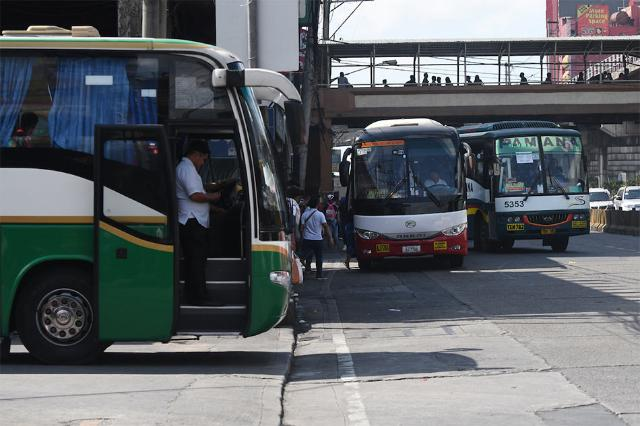bus: (3, 27, 303, 362), (340, 117, 470, 271), (460, 120, 591, 252)
